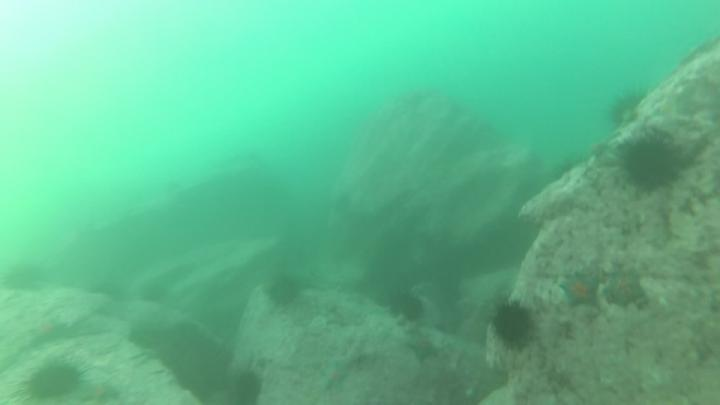echinus: (621, 132, 684, 197), (486, 296, 542, 356), (21, 360, 87, 404), (608, 89, 646, 129), (264, 275, 308, 309), (384, 291, 430, 323), (1, 263, 45, 296), (231, 370, 265, 405), (86, 280, 128, 299), (141, 281, 169, 305)
starfish: (602, 266, 649, 311), (556, 270, 603, 313), (27, 316, 71, 347), (405, 334, 445, 366)
